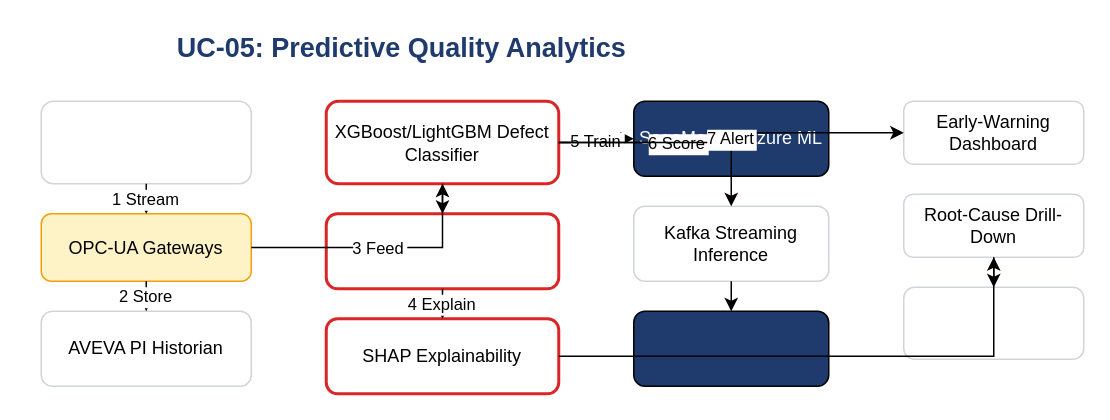
This 1110x420 diagram has some shape labels left out. The centre of each missing label's shape, as x and y in pixels:
Auto-Tuning Recommendations: point (993, 322)
IoT Sensors (Temp, Pressure, Vibration): point (145, 142)
LSTM Time-Series Model: point (442, 251)
Quality DB + MES: point (730, 348)
